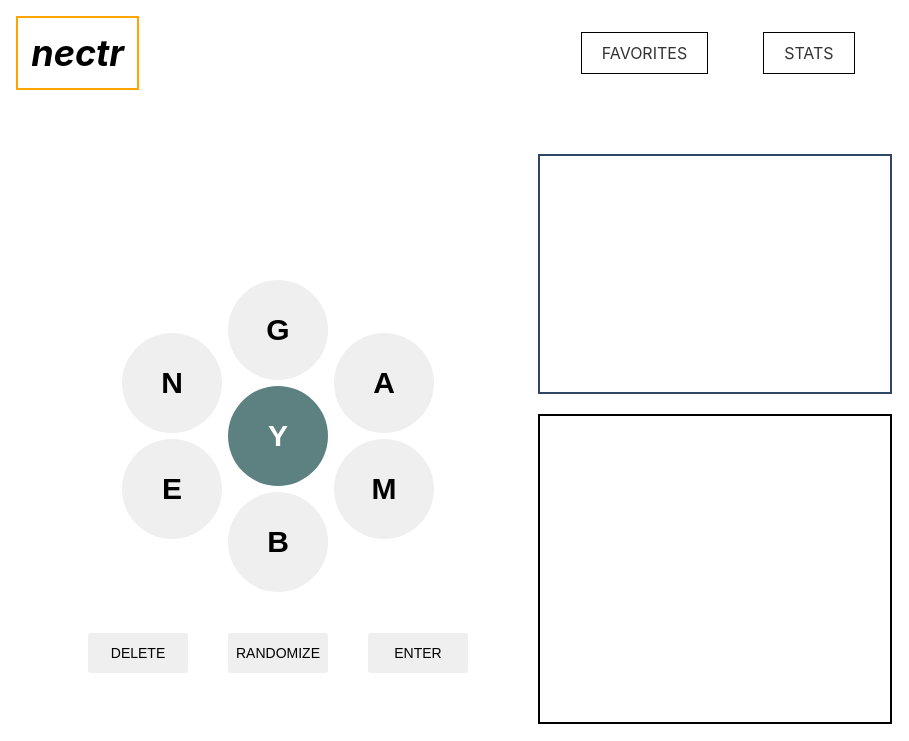
Test: Should properly handle errors › Should display an error input is too short
Click the button "B".
click(278, 542)  # box [228,492,328,592]
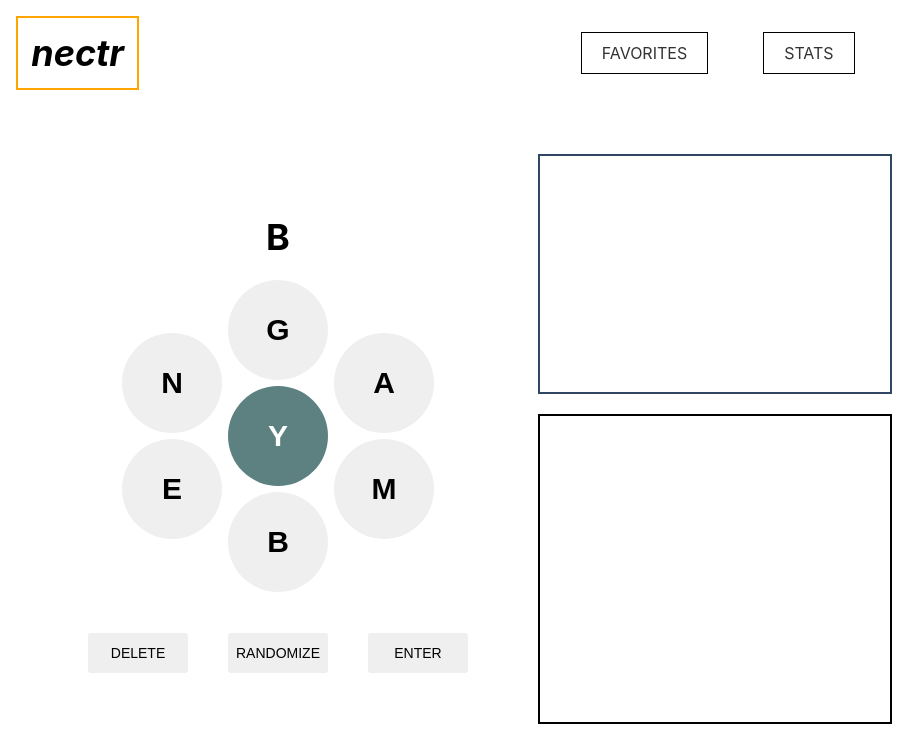
Click the button "A".
click(384, 383)  # box [334,333,434,433]
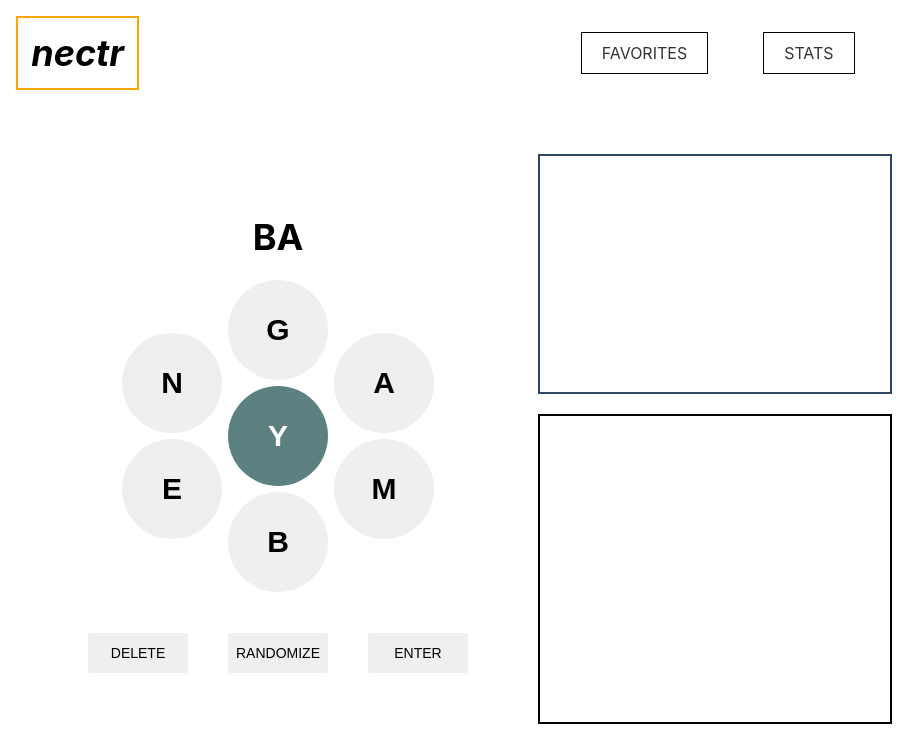
Click the button with class "game-play-button" showing "ENTER".
click(418, 653)  # box [368,633,468,673]
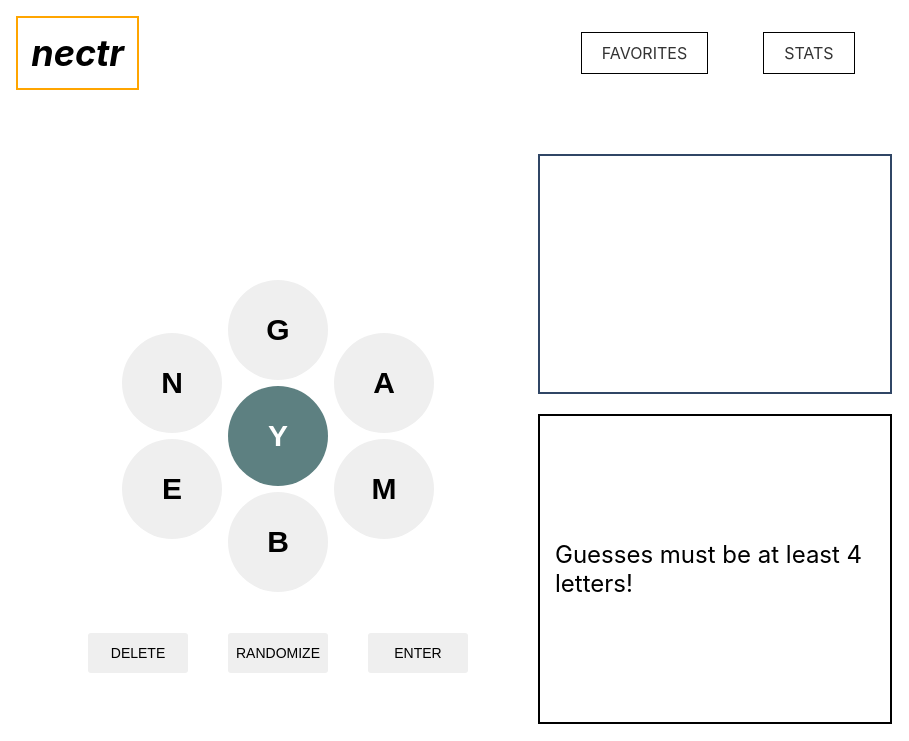
Expected: the element with class "error-card" reads "Guesses must be at least 4 letters!", [538,414,892,724]
